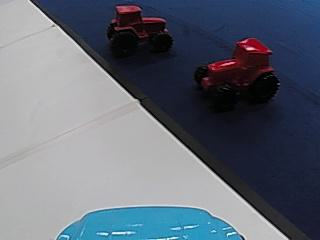Tracktor: (189, 35, 281, 103), (106, 2, 171, 54)
